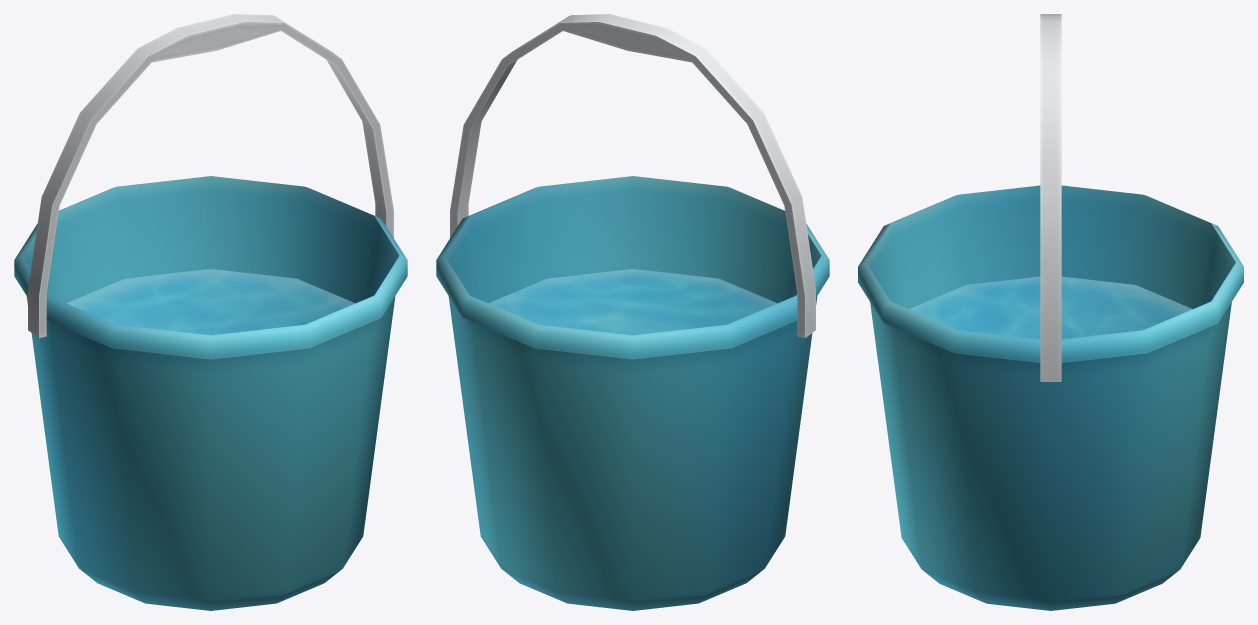
The model's file is jsf_Bucket_01.fbx.
3 renders of one model, left to right at view 1: azimuth 30°, elevation 25°; view 2: azimuth 150°, elevation 25°; view 3: azimuth 270°, elevation 25°, orthographic.
Parts seen in each view (by area): view 1: Bucket, Handle, Water; view 2: Bucket, Handle, Water; view 3: Bucket, Water, Handle.
Boxes of the visible parts, box(x1,y1,x2,y2) form: Bucket: box(14, 176, 407, 610); Handle: box(28, 14, 393, 337); Water: box(66, 269, 355, 335); Bucket: box(436, 176, 829, 610); Handle: box(450, 14, 815, 337); Water: box(488, 269, 777, 335); Bucket: box(858, 185, 1243, 610); Water: box(909, 276, 1192, 339); Handle: box(1040, 14, 1061, 381).
Size of the model in its own units: 31.15 by 44.51 by 29.9.
